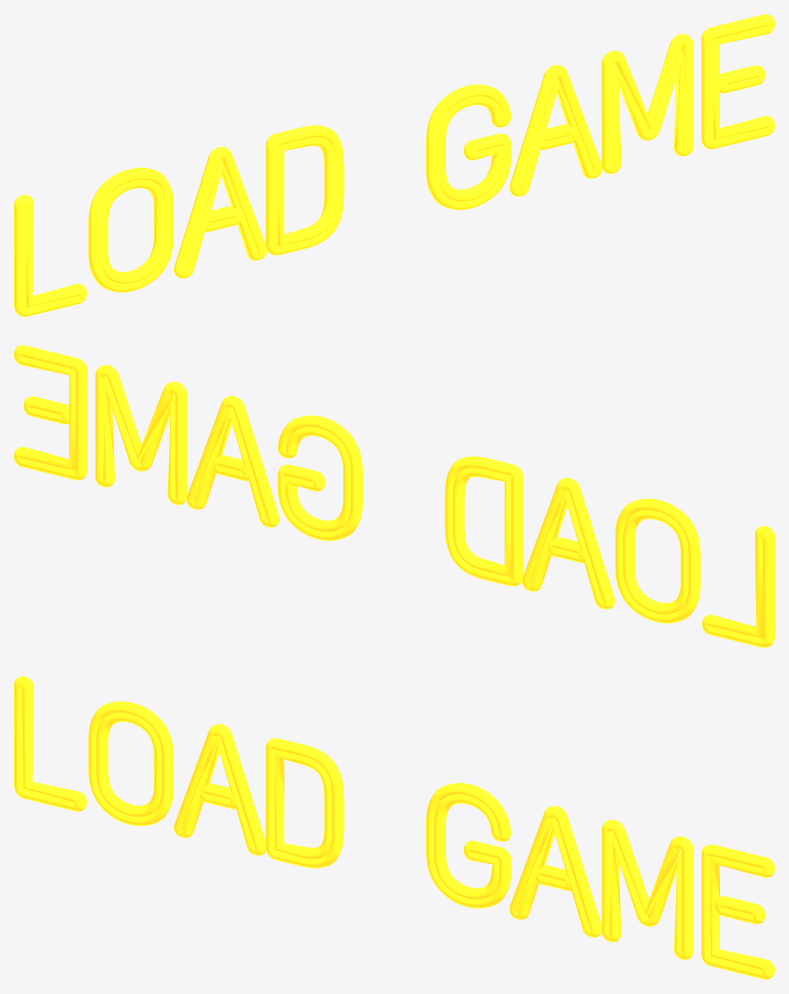
Rendered from LOADGAMETextNeon.fbx.
3 renders of one model, top to bottom at view 1: azimuth 30°, elevation 25°; view 2: azimuth 150°, elevation 25°; view 3: azimuth 330°, elevation 25°, orthographic.
Parts seen in each view (by area): view 1: Text; view 2: Text; view 3: Text.
Boxes of the visible parts, box(x1,y1,x2,y2) form: Text: box(14, 14, 774, 316); Text: box(14, 345, 774, 647); Text: box(14, 676, 774, 979).
Size of the model in its own units: 4.16 by 0.639 by 0.06.
